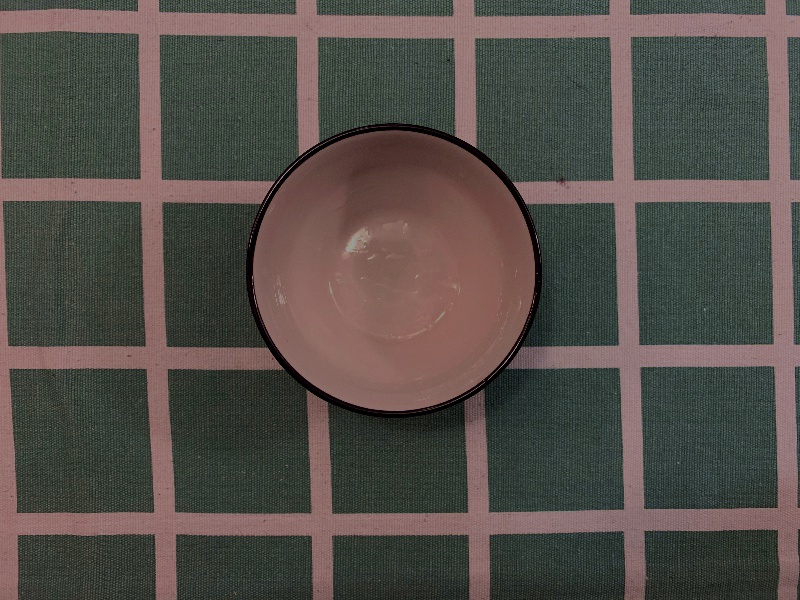bowl_small: (238, 117, 552, 427)
